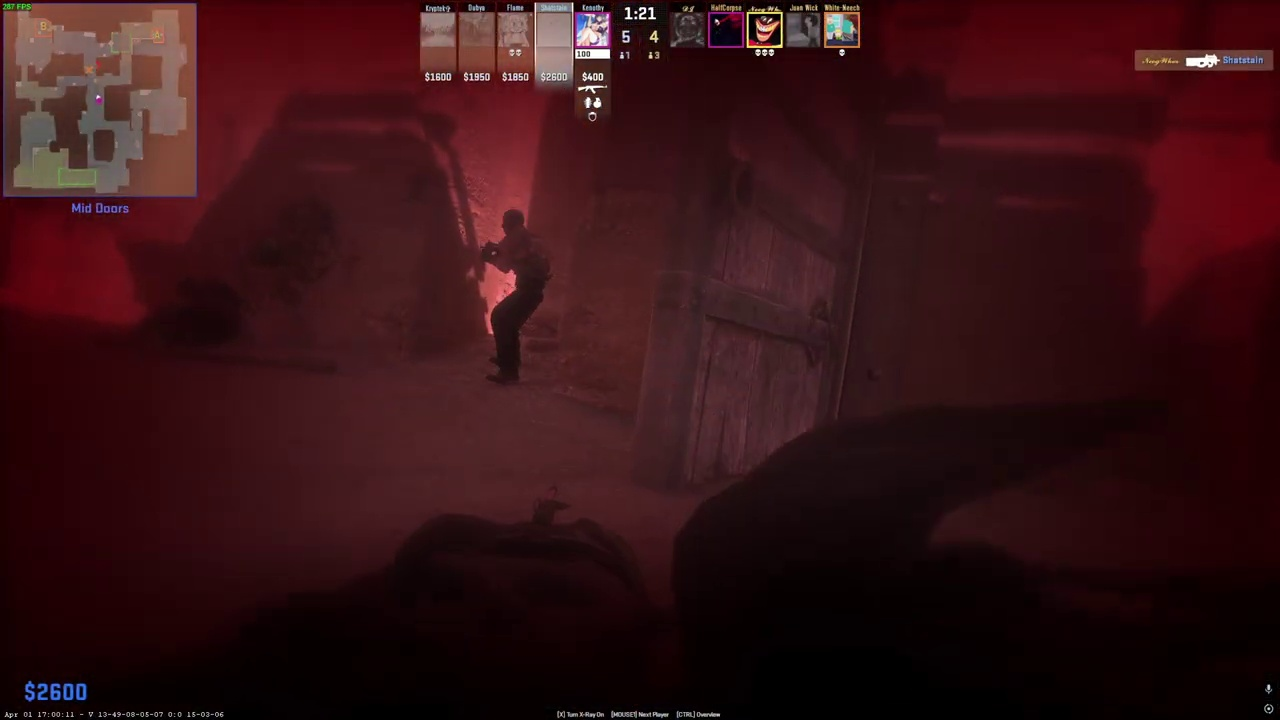Terrorist: (479, 207, 550, 383)
